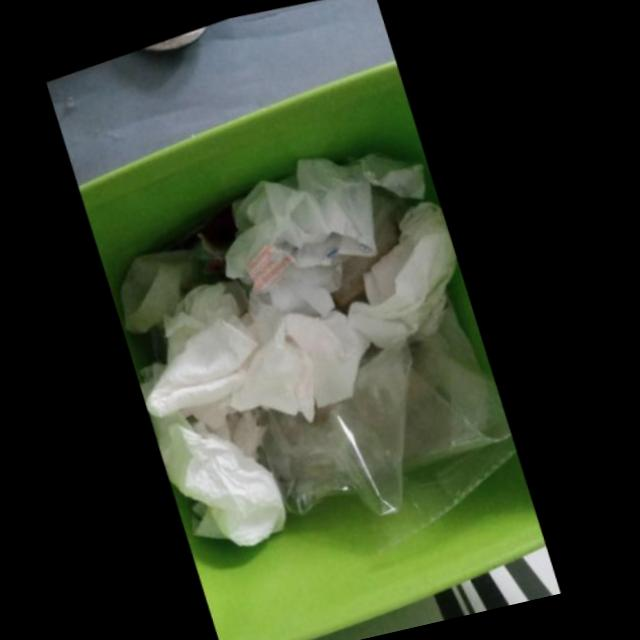giay: (149, 273, 373, 435), (226, 153, 379, 314), (154, 403, 291, 543), (349, 197, 459, 345), (121, 229, 234, 331), (335, 144, 427, 195)
tui_ni_long: (261, 299, 521, 542)
